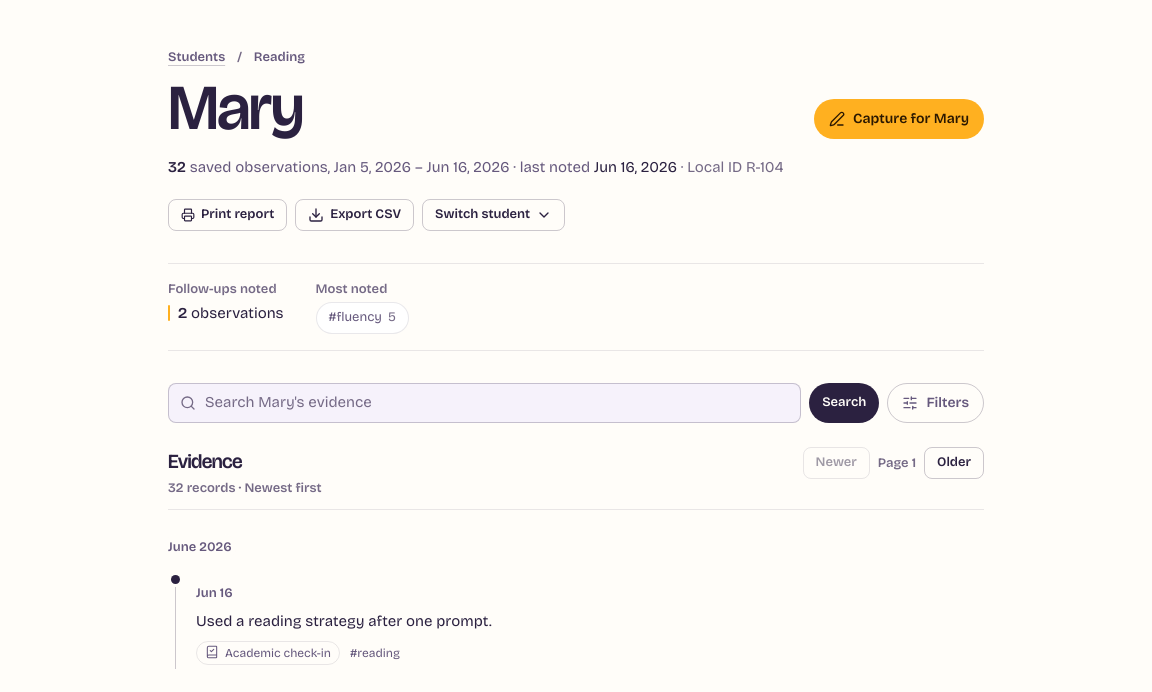
Test: StudentTimelinePage › blocks a reversed draft date range before navigation
Click the button "Filters".
click(936, 403)  # box [887,383,984,423]
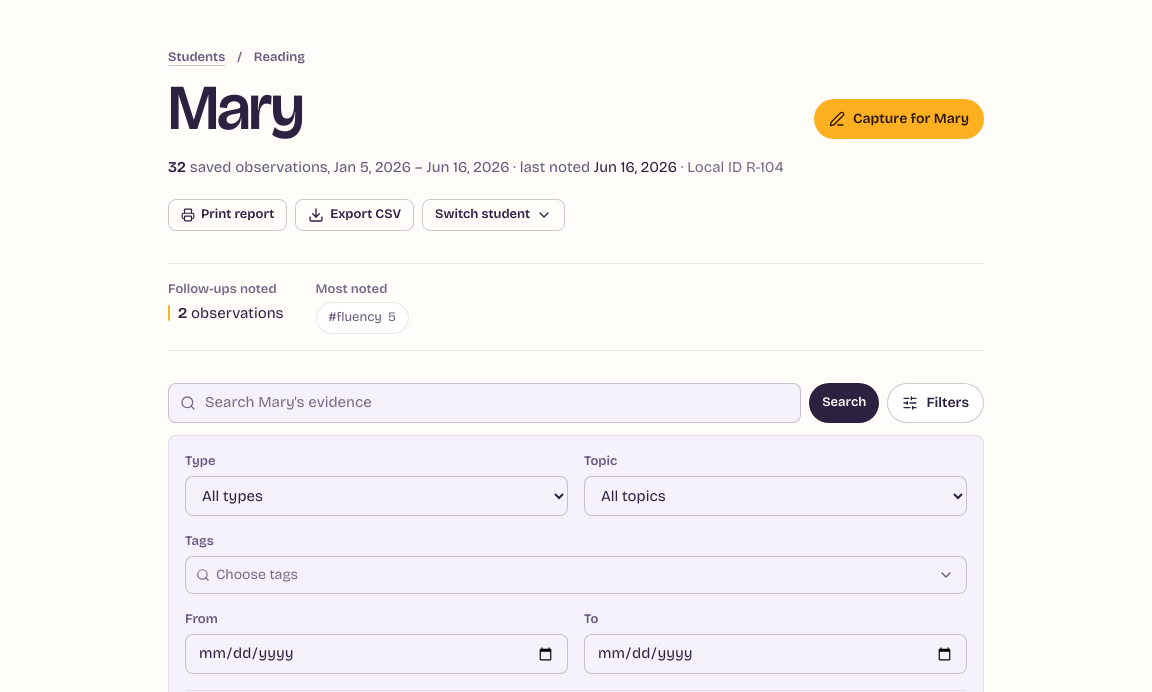
Type "2026-03-10" into the date field labelled "From".
click(376, 654); type("2026-03-10")  # box [185,634,568,674]
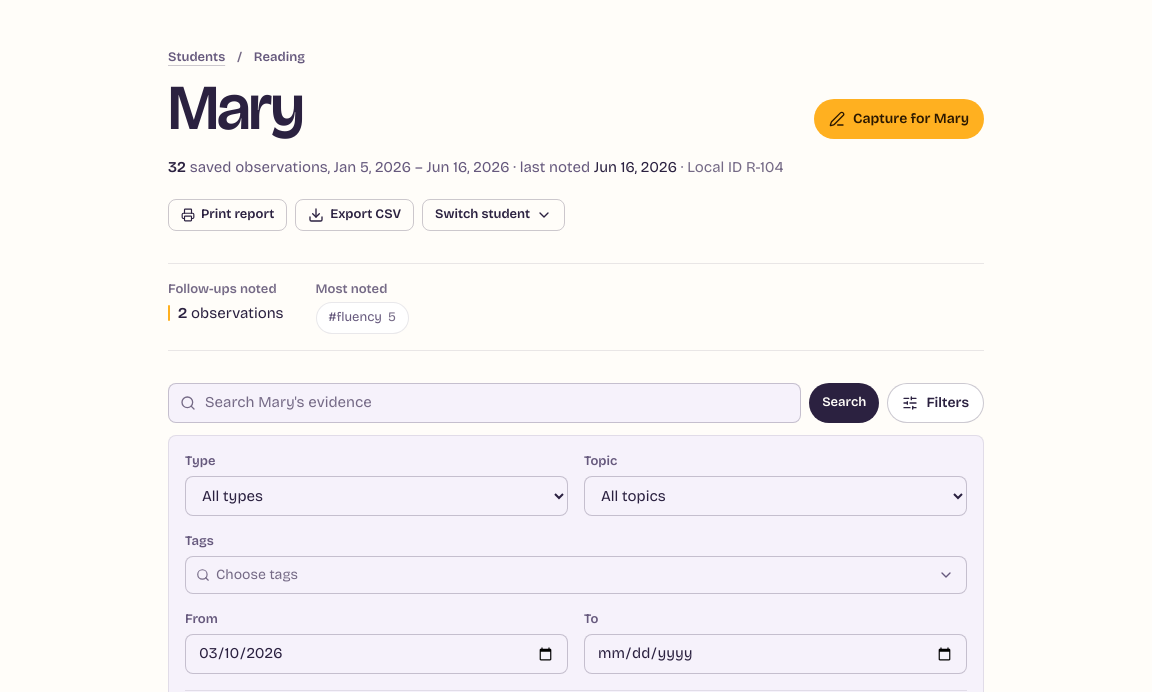
Type "2026-03-09" into the date field labelled "To".
click(776, 654); type("2026-03-09")  # box [584,634,967,674]
(page scrolled)
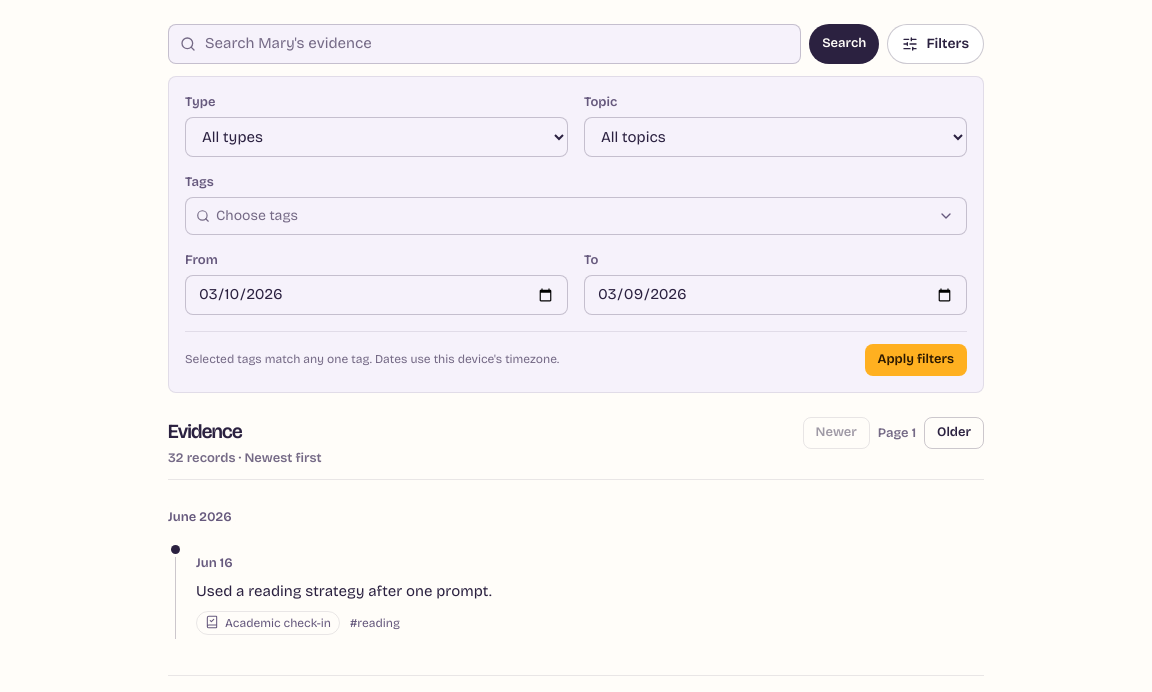
Click the button "Apply filters".
click(916, 360)  # box [864,344,967,376]
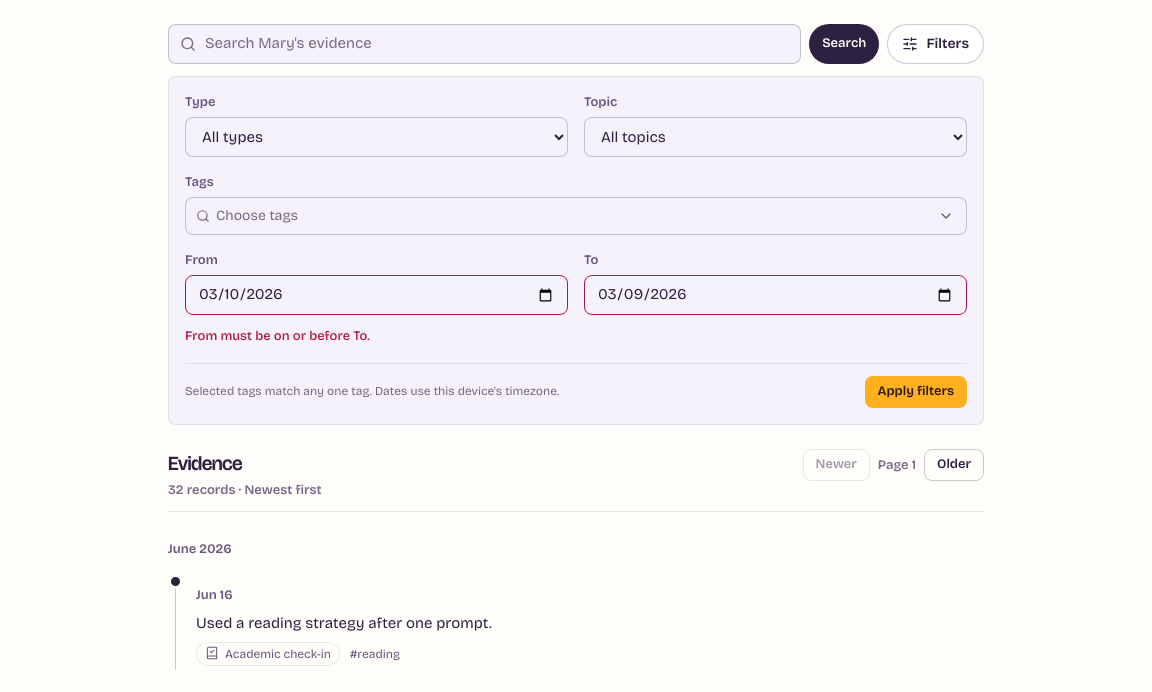
Result: the text "From must be on or before To." is shown at [185,328,370,344]
